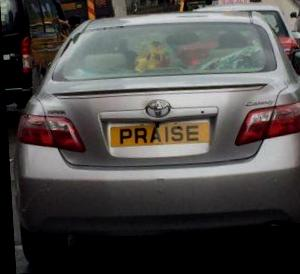License_Plate: (107, 113, 215, 151)
